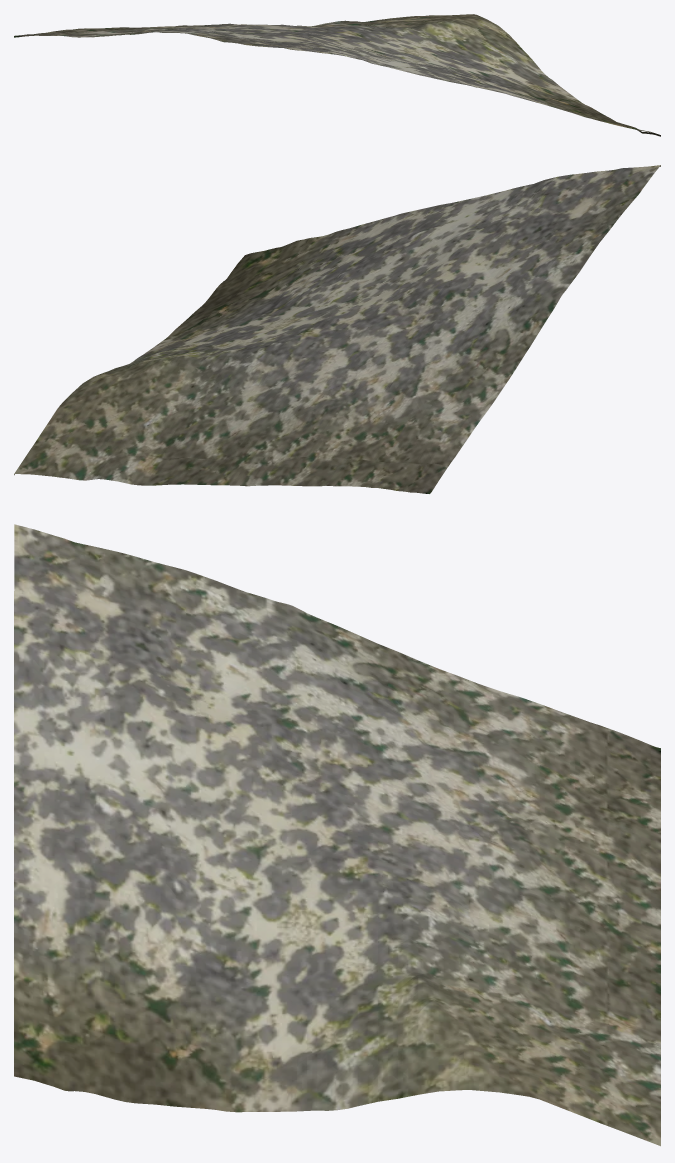
3 views of the same model, one above another, from view 1: azimuth 30°, elevation 25°; view 2: azimuth 150°, elevation 25°; view 3: azimuth 270°, elevation 25° (orthographic). The views are drawn at different scales.
Size of the model in its own units: 250 by 140 by 241.
1 material, 1 textured.
